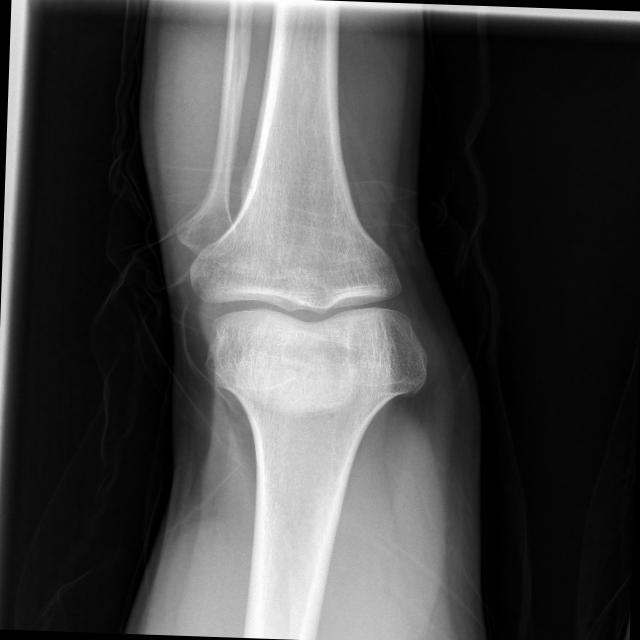Knee: (182, 250, 432, 404)
